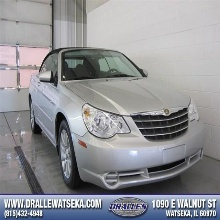no damage: (28, 47, 204, 188)
